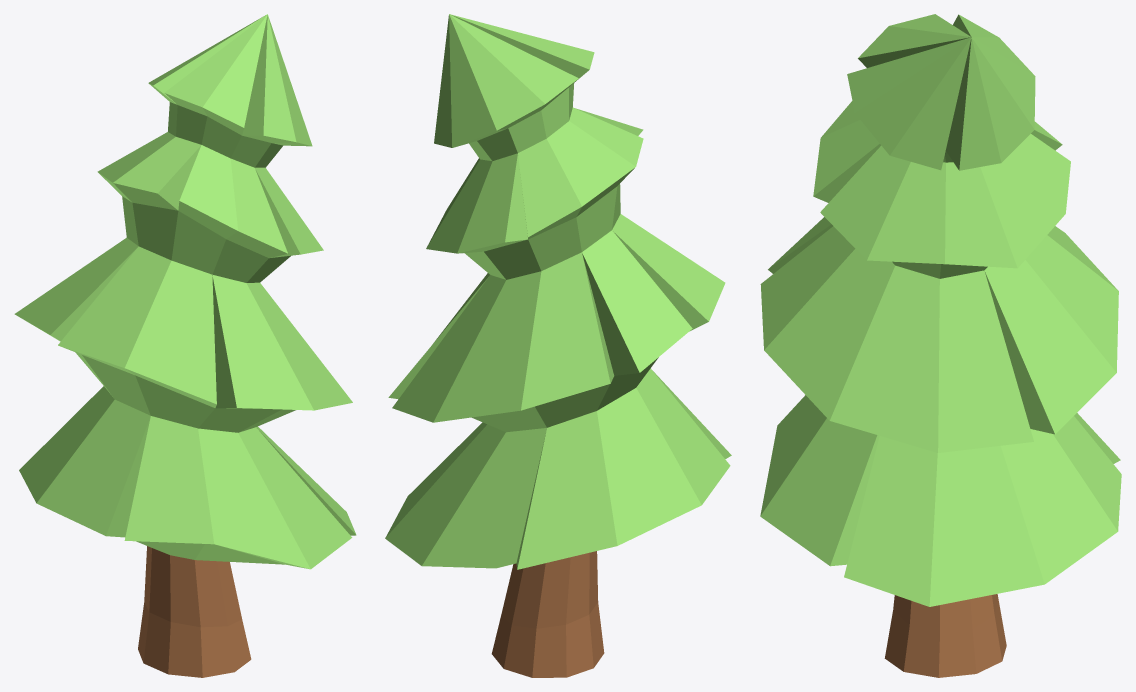
Rendered from Tree4.1Rot.fbx.
3 renders of one model, left to right at view 1: azimuth 30°, elevation 25°; view 2: azimuth 150°, elevation 25°; view 3: azimuth 270°, elevation 25°, orthographic. The views are drawn at different scales.
Parts seen in each view (by area): view 1: Tree4.1Rot; view 2: Tree4.1Rot; view 3: Tree4.1Rot.
Boxes of the visible parts, <box> form: Tree4.1Rot: <box>14,14,356,677</box>; Tree4.1Rot: <box>385,14,731,677</box>; Tree4.1Rot: <box>760,14,1121,677</box>.
Bounding box in the file's own units: 255 × 499 × 248.
